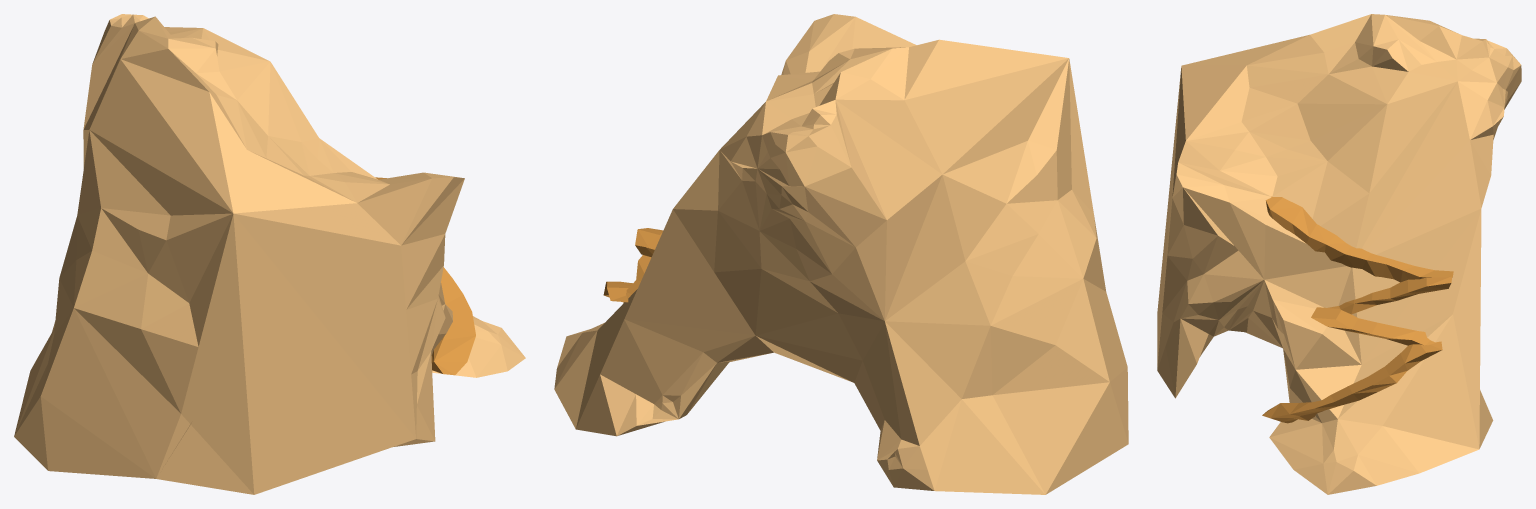
The picture shows the model from 3 angles, left to right: view 1: azimuth 30°, elevation 25°; view 2: azimuth 150°, elevation 25°; view 3: azimuth 270°, elevation 25°; orthographic projection. The views are drawn at different scales.
Parts seen in each view (by area): view 1: group_343169424, group_1106719088; view 2: group_343169424; view 3: group_343169424, group_1533220994, group_1106719088, group_1030139279, group_1816422561.
Part boxes in pixels (x1=…): group_343169424: x1=14, y1=14, x2=525, y2=494; group_1106719088: x1=431, y1=267, x2=475, y2=375; group_343169424: x1=554, y1=14, x2=1128, y2=494; group_343169424: x1=1157, y1=14, x2=1521, y2=494; group_1533220994: x1=1266, y1=196, x2=1453, y2=282; group_1106719088: x1=1262, y1=341, x2=1442, y2=423; group_1030139279: x1=1311, y1=307, x2=1437, y2=345; group_1816422561: x1=1328, y1=276, x2=1452, y2=314.
Bounding box in the file's own units: 211 × 153 × 150.
